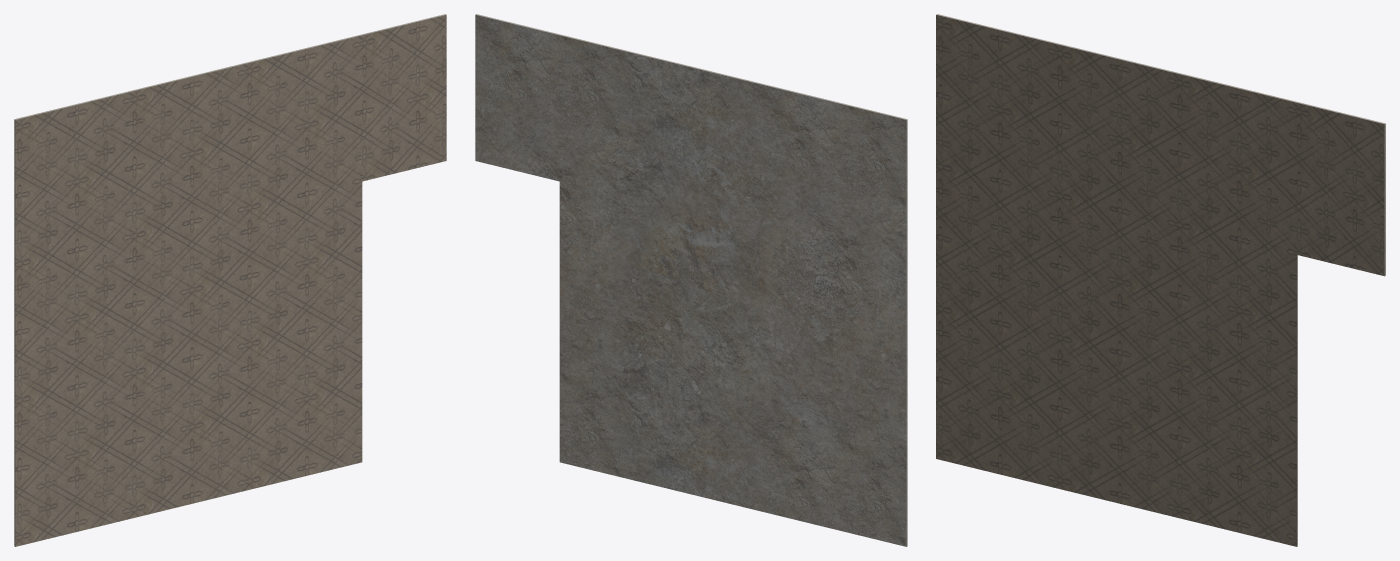
File: WallpapperE.fbx
3 views of the same model, side by side, from view 1: azimuth 30°, elevation 25°; view 2: azimuth 150°, elevation 25°; view 3: azimuth 330°, elevation 25° (orthographic). The views are drawn at different scales.
Parts seen in each view (by area): view 1: WallpapperE; view 2: WallpapperE; view 3: WallpapperE.
Boxes of the visible parts, x1=… form: WallpapperE: x1=14, y1=14, x2=446, y2=546; WallpapperE: x1=475, y1=14, x2=907, y2=546; WallpapperE: x1=936, y1=14, x2=1385, y2=546.
Bounding box in the file's own units: 389 × 368 × 1.68.
